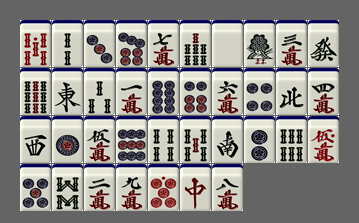0m: (308, 116, 339, 163)
0p: (148, 164, 179, 211)
0s: (20, 20, 51, 67)
1m: (116, 68, 147, 115)
1p: (52, 116, 83, 163)
1s: (244, 20, 275, 67)
1z: (52, 68, 83, 115)
2m: (84, 164, 115, 211)
2p: (244, 116, 275, 163)
2s: (52, 20, 83, 67)
2z: (212, 116, 243, 163)
3m: (276, 20, 307, 67)
3p: (84, 20, 115, 67)
3s: (84, 68, 115, 115)
3z: (20, 116, 51, 163)
4m: (308, 68, 339, 115)
4p: (244, 68, 275, 115)
4s: (148, 116, 179, 163)
4z: (276, 68, 307, 115)
5m: (84, 116, 115, 163)
5p: (20, 164, 51, 211)
5s: (180, 116, 211, 163)
5z: (212, 20, 243, 67)
6m: (212, 68, 243, 115)
6p: (180, 68, 211, 115)
6s: (276, 116, 307, 163)
6z: (308, 20, 339, 67)
7m: (148, 20, 179, 67)
7p: (116, 20, 147, 67)
7s: (180, 20, 211, 67)
7z: (180, 164, 211, 211)
8m: (212, 164, 243, 211)
8p: (148, 68, 179, 115)
8s: (52, 164, 83, 211)
9m: (116, 164, 147, 211)
9p: (116, 116, 147, 163)
9s: (20, 68, 51, 115)
